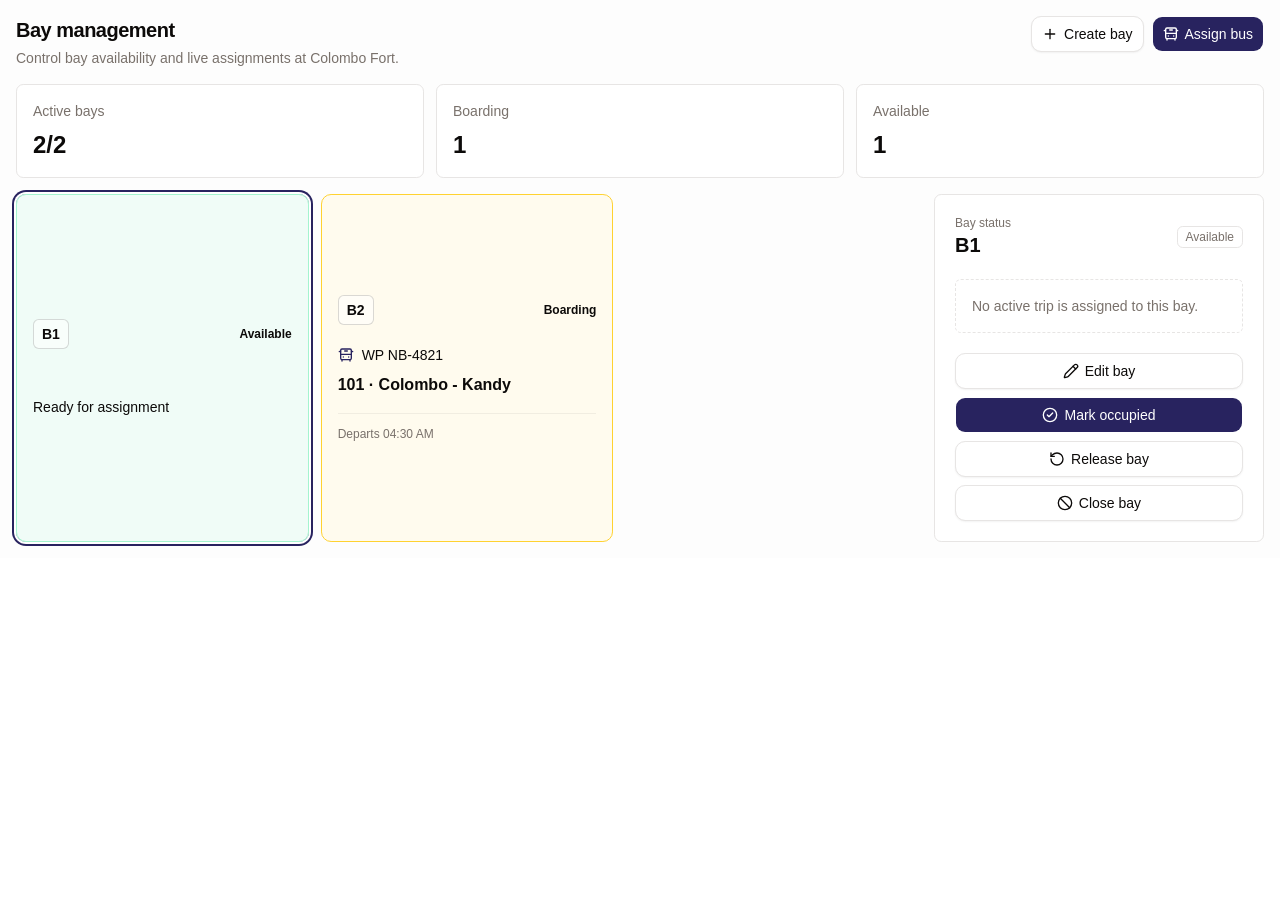
BayManagementPage › shows the trip on a bay when it is selected
Step 1. Click the text "B2" → [356, 310], box [338,294,374,324]
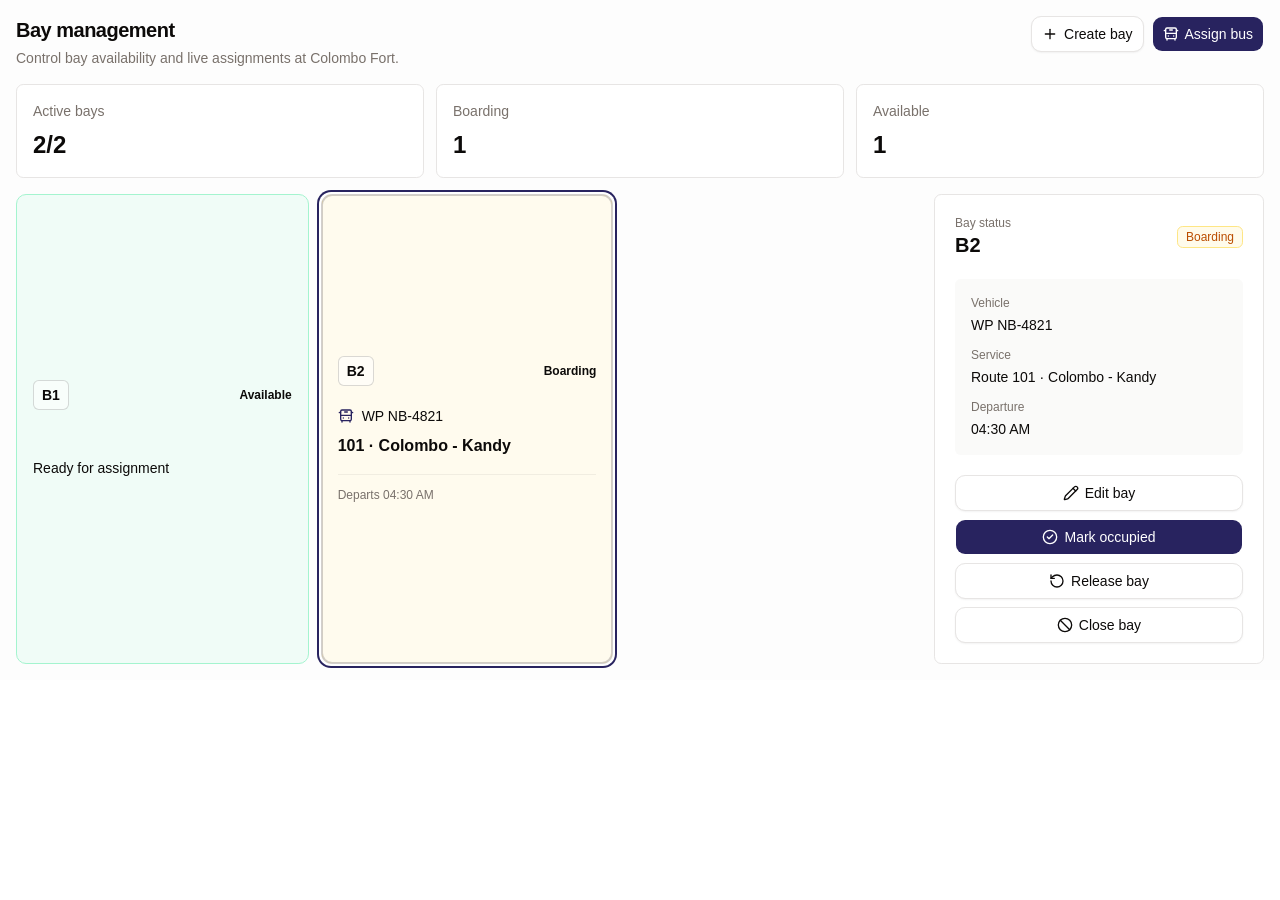
Expected: the text "Route 101 · Colombo - Kandy" is shown, [971,369,1156,385]
